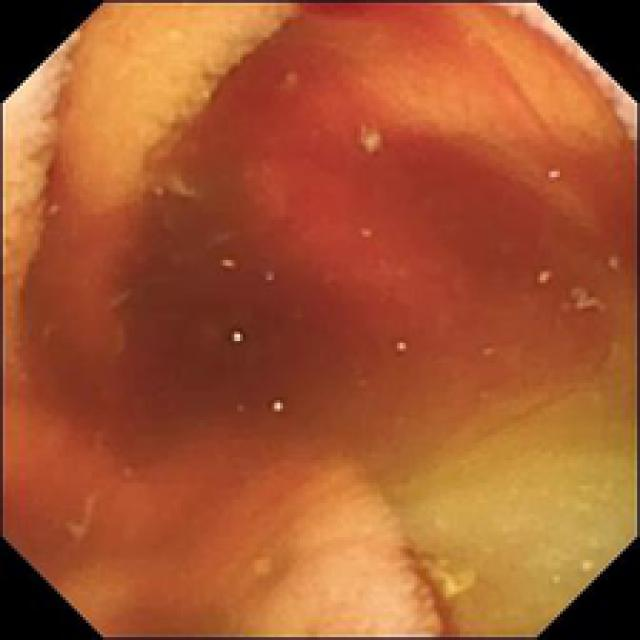bleeding: (23, 0, 640, 469), (14, 477, 263, 640), (407, 548, 465, 639)
